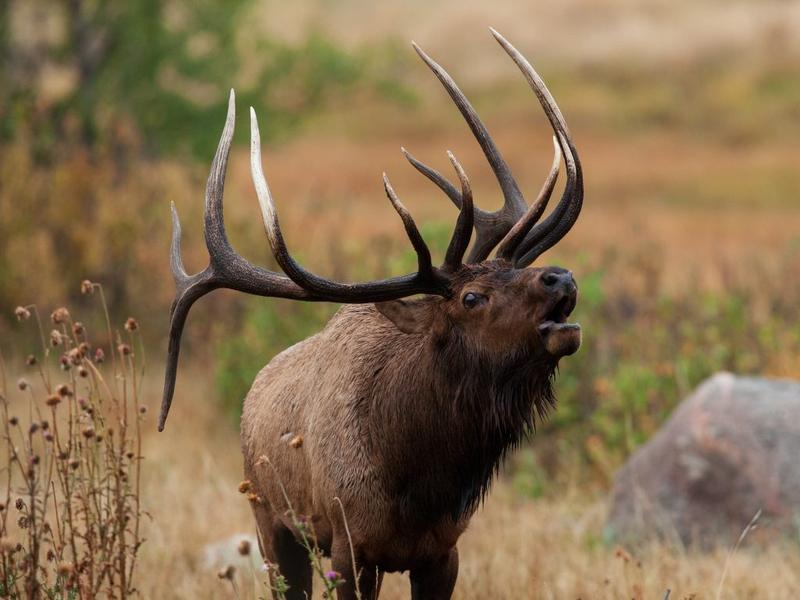elk: (177, 98, 590, 600)
